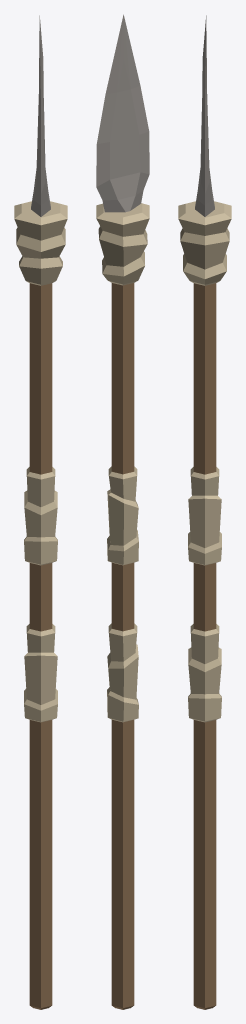
File: SM_pwe_slavic_spear_04.fbx
3 views of the same model, side by side, from view 1: azimuth 90°, elevation 25°; view 2: azimuth 210°, elevation 25°; view 3: azimuth 270°, elevation 25° (orthographic).
Parts seen in each view (by area): view 1: SM_pwe_slavic_spear_04; view 2: SM_pwe_slavic_spear_04; view 3: SM_pwe_slavic_spear_04.
Boxes of the visible parts, box(x1,y1,x2,y2) form: SM_pwe_slavic_spear_04: box(14, 15, 67, 1009); SM_pwe_slavic_spear_04: box(96, 14, 149, 1009); SM_pwe_slavic_spear_04: box(178, 15, 231, 1009).
Bounding box in the file's own units: 10.71 × 190 × 9.28.
